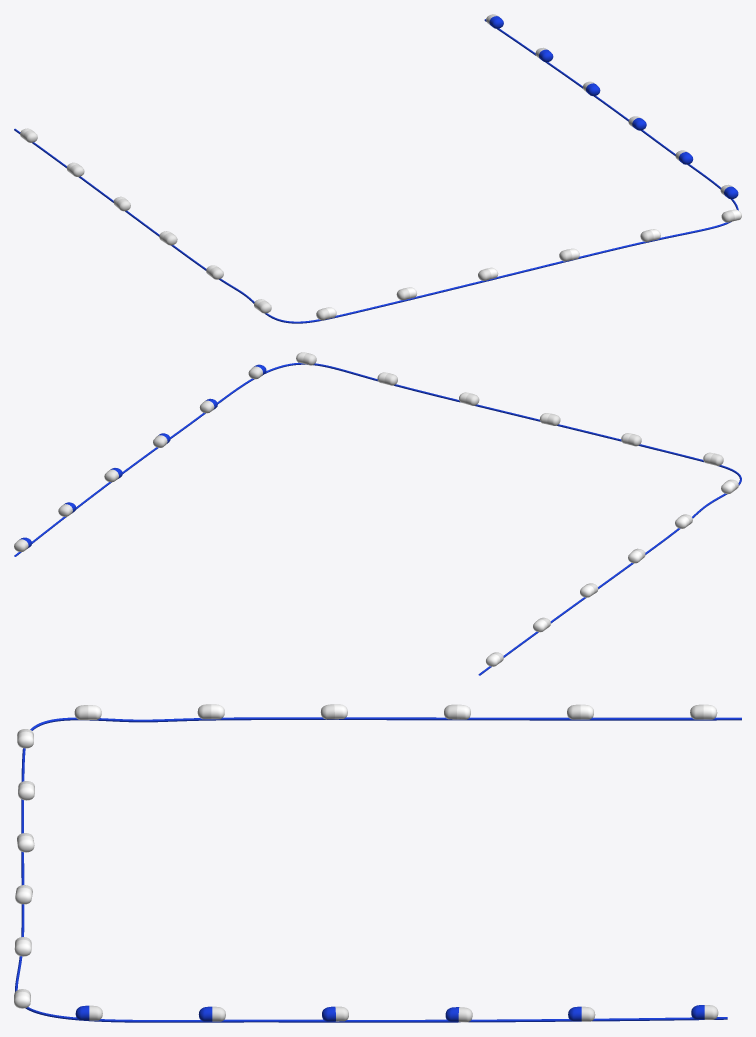
File: 2dubaipgrupfbx.fbx
The picture shows the model from 3 angles, top to bottom: view 1: azimuth 30°, elevation 25°; view 2: azimuth 150°, elevation 25°; view 3: azimuth 270°, elevation 25°; orthographic projection. The views are drawn at different scales.
Visible parts, largest first — view 1: NurbsPath; view 2: NurbsPath; view 3: NurbsPath.
Part boxes in pixels (box(x1,y1,x2,y2)): NurbsPath: box(14, 14, 741, 323); NurbsPath: box(14, 352, 741, 675); NurbsPath: box(14, 704, 741, 1022).
Size of the model in its own units: 7086 by 153 by 7025.
